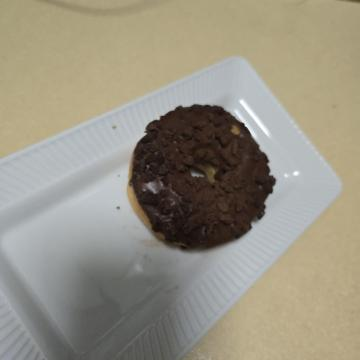doughnut: (94, 75, 263, 243)
